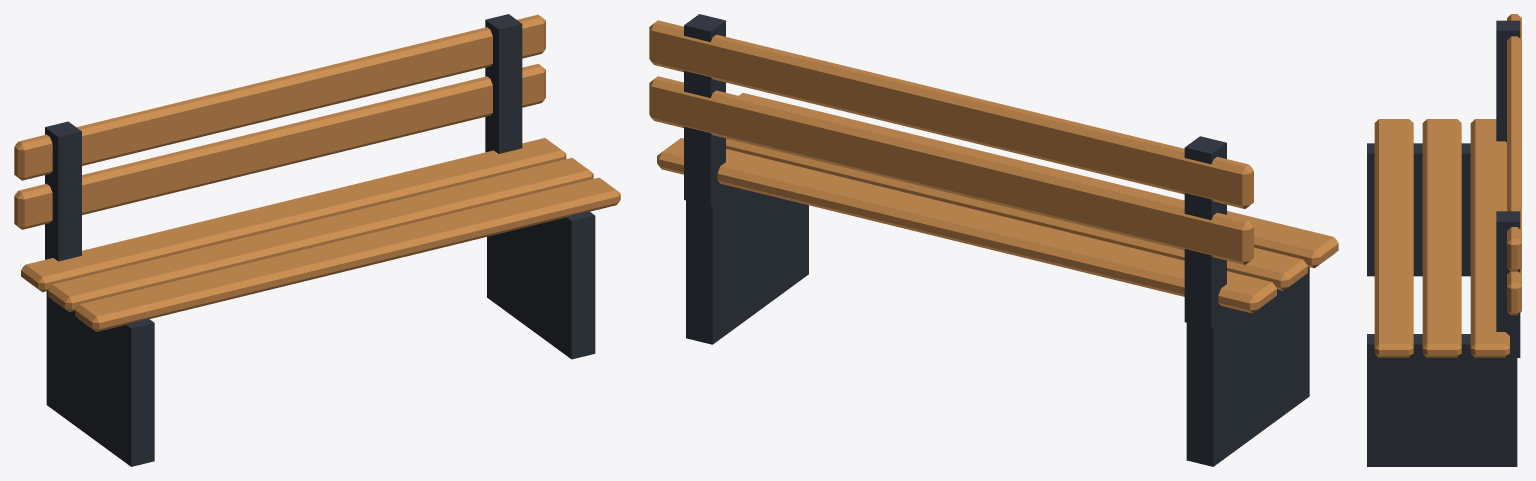
File: bench.glb
3 renders of one model, left to right at view 1: azimuth 30°, elevation 25°; view 2: azimuth 150°, elevation 25°; view 3: azimuth 270°, elevation 25°, orthographic. The views are drawn at different scales.
Parts seen in each view (by area): view 1: bench_wood, bench_frame; view 2: bench_wood, bench_frame; view 3: bench_wood, bench_frame.
Part boxes in pixels (x1,y1,x2,y2): bench_wood: [14, 14, 620, 331]; bench_frame: [45, 14, 595, 466]; bench_wood: [649, 20, 1338, 313]; bench_frame: [684, 14, 1309, 466]; bench_wood: [1374, 14, 1521, 357]; bench_frame: [1367, 20, 1520, 466].
Bounding box in the file's own units: 1.8 × 0.9 × 0.515.
